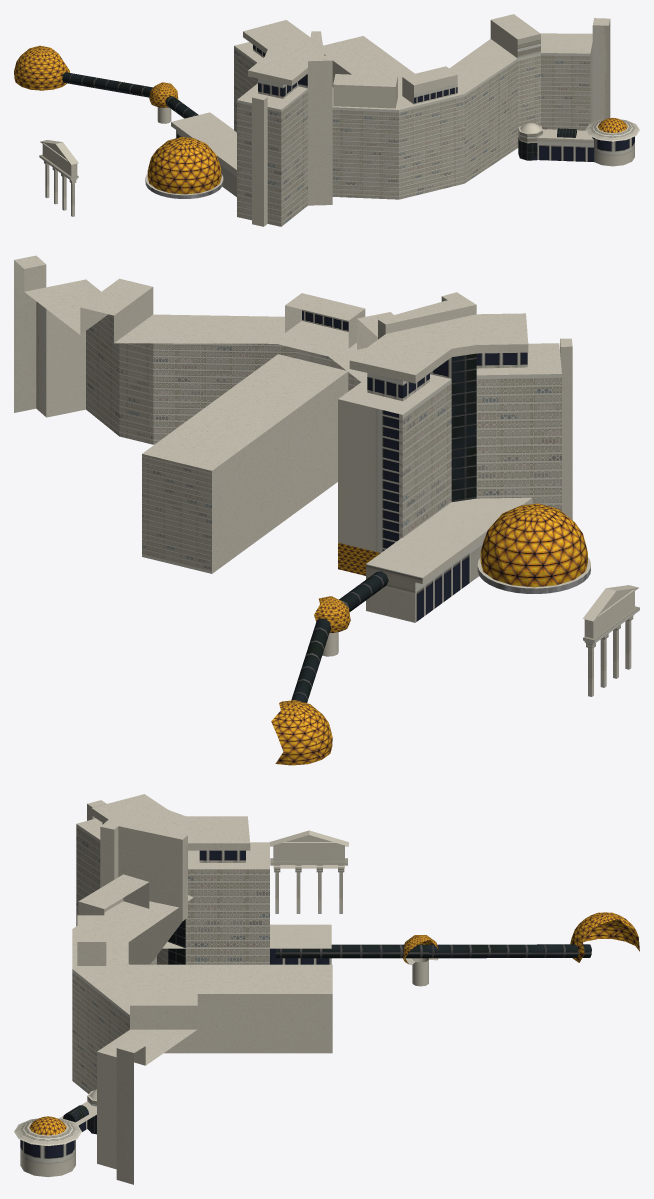
Rendered from palace1.dae.
3 views of the same model, one above another, from view 1: azimuth 30°, elevation 25°; view 2: azimuth 150°, elevation 25°; view 3: azimuth 270°, elevation 25° (orthographic). The views are drawn at different scales.
Parts seen in each view (by area): view 1: palace1; view 2: palace1; view 3: palace1.
Boxes of the visible parts, bbox=[...] form: palace1: bbox=[14, 14, 639, 226]; palace1: bbox=[14, 255, 639, 765]; palace1: bbox=[14, 794, 639, 1184].
Size of the model in its own units: 18.01 by 16.09 by 5.72.
Materials: 1 (1 with a texture image).
